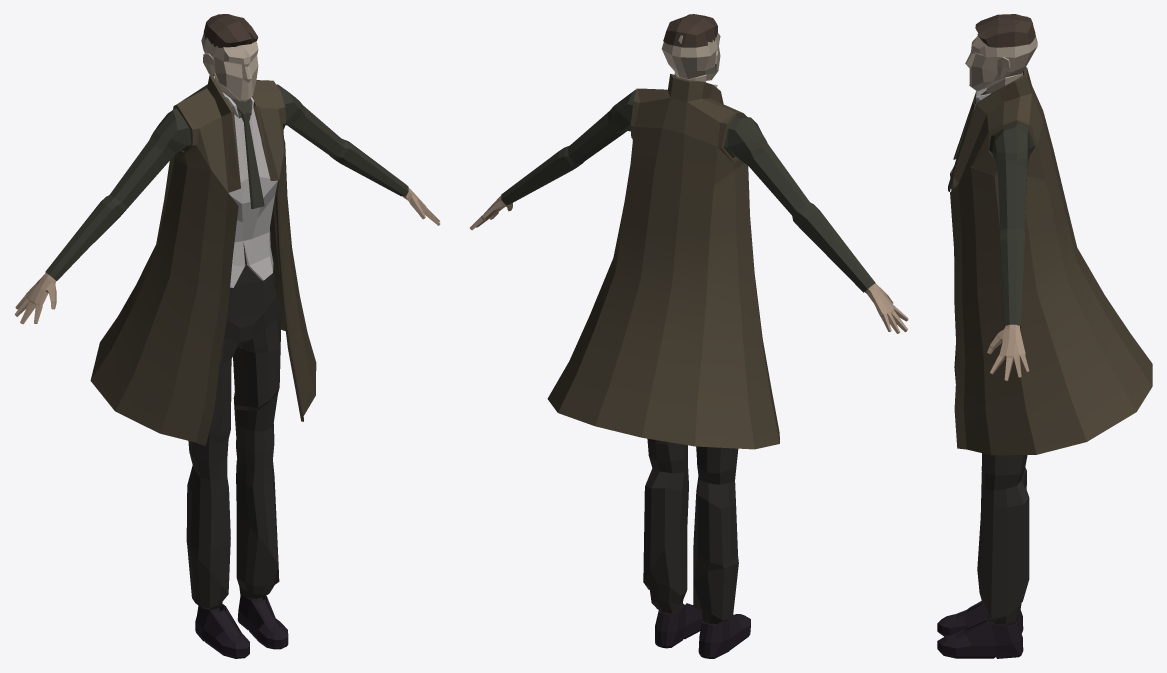
Rendered from Noir_Male.fbx.
3 renders of one model, left to right at view 1: azimuth 30°, elevation 25°; view 2: azimuth 150°, elevation 25°; view 3: azimuth 270°, elevation 25°, orthographic. The views are drawn at different scales.
Visible parts, largest first — view 1: polySurface7, polySurface3, pCube3, pCube1, pCube4, polySurface1; view 2: polySurface3, polySurface7, pCube3, pCube1, pCube4; view 3: polySurface3, polySurface7, pCube3, pCube1, pCube4.
Part boxes in pixels (x1,y1,x2,y2): polySurface7: [14, 74, 440, 612]; polySurface3: [90, 143, 316, 445]; pCube3: [195, 595, 288, 658]; pCube1: [201, 33, 258, 101]; pCube4: [203, 14, 258, 47]; polySurface1: [231, 98, 264, 208]; polySurface3: [547, 163, 779, 449]; polySurface7: [470, 74, 908, 624]; pCube3: [655, 603, 750, 658]; pCube1: [661, 33, 720, 82]; pCube4: [663, 14, 717, 47]; polySurface3: [950, 150, 1152, 455]; polySurface7: [953, 67, 1053, 625]; pCube3: [937, 600, 1023, 658]; pCube1: [965, 34, 1037, 93]; pCube4: [975, 14, 1035, 47].
Size of the model in its own units: 137 by 191 by 59.49.
